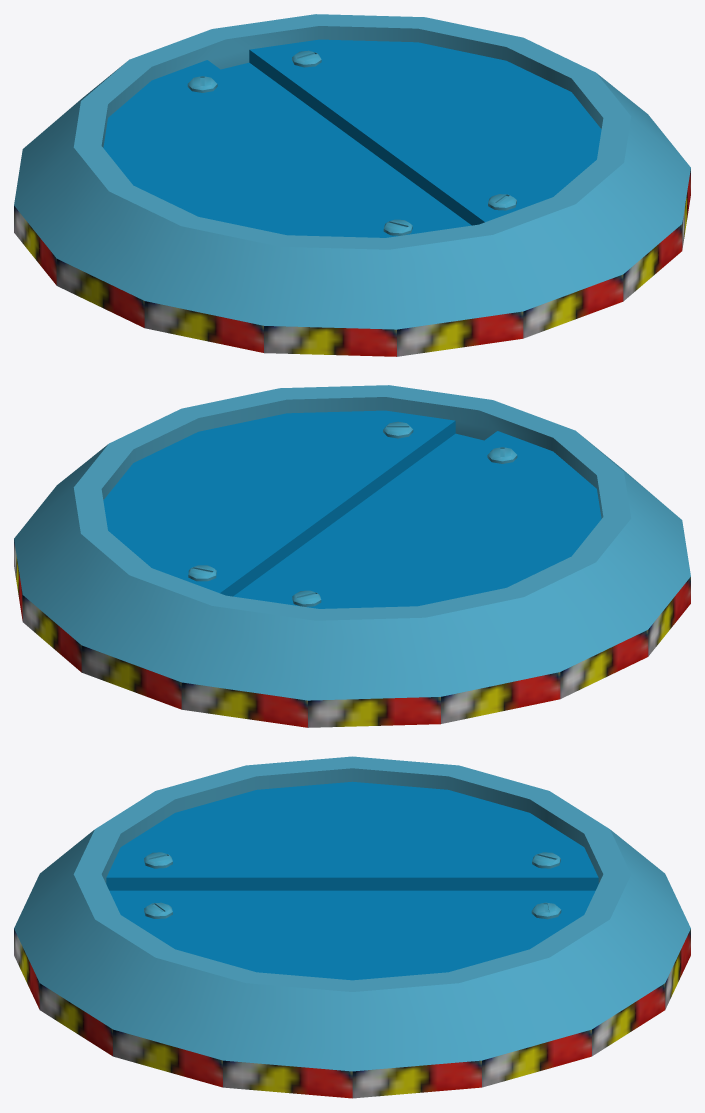
3 views of the same model, one above another, from view 1: azimuth 30°, elevation 25°; view 2: azimuth 150°, elevation 25°; view 3: azimuth 270°, elevation 25° (orthographic).
Visible parts, largest first — view 1: Joint_0_Object_0, Joint_0_Object_1; view 2: Joint_0_Object_0, Joint_0_Object_1; view 3: Joint_0_Object_0, Joint_0_Object_1.
Part boxes in pixels (x1,y1,x2,y2): Joint_0_Object_0: (14,14,690,356); Joint_0_Object_1: (103,39,601,237); Joint_0_Object_0: (14,385,690,727); Joint_0_Object_1: (103,410,601,608); Joint_0_Object_0: (14,756,690,1098); Joint_0_Object_1: (106,781,598,980).
Bounding box in the file's own units: 1134 × 150 × 1134.
